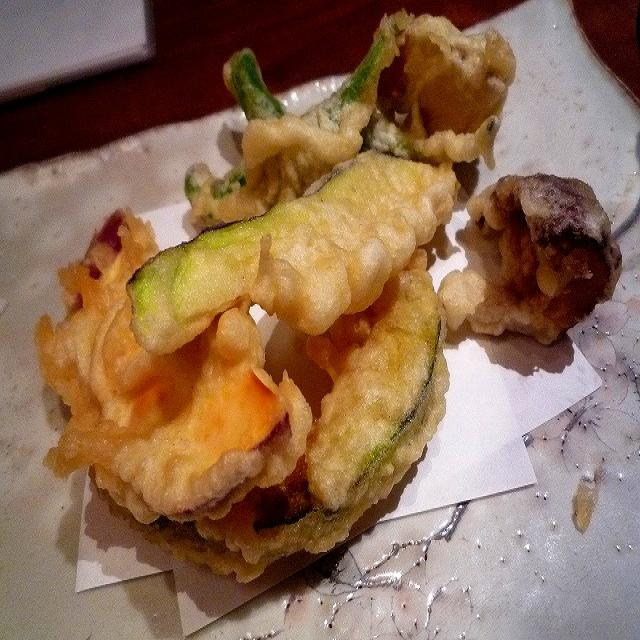蔬菜料理: (0, 16, 640, 600)
